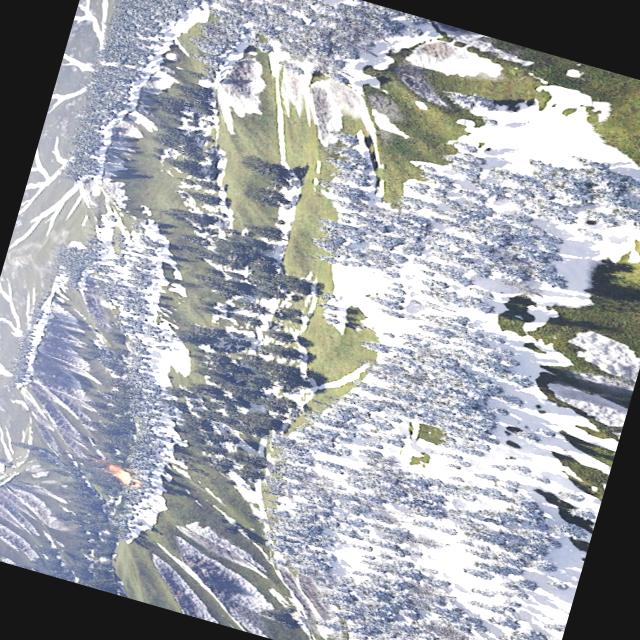fire: (108, 464, 134, 484)
